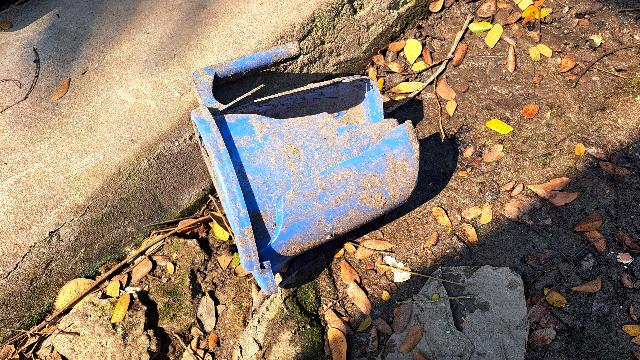hardplastic: (197, 56, 425, 276)
